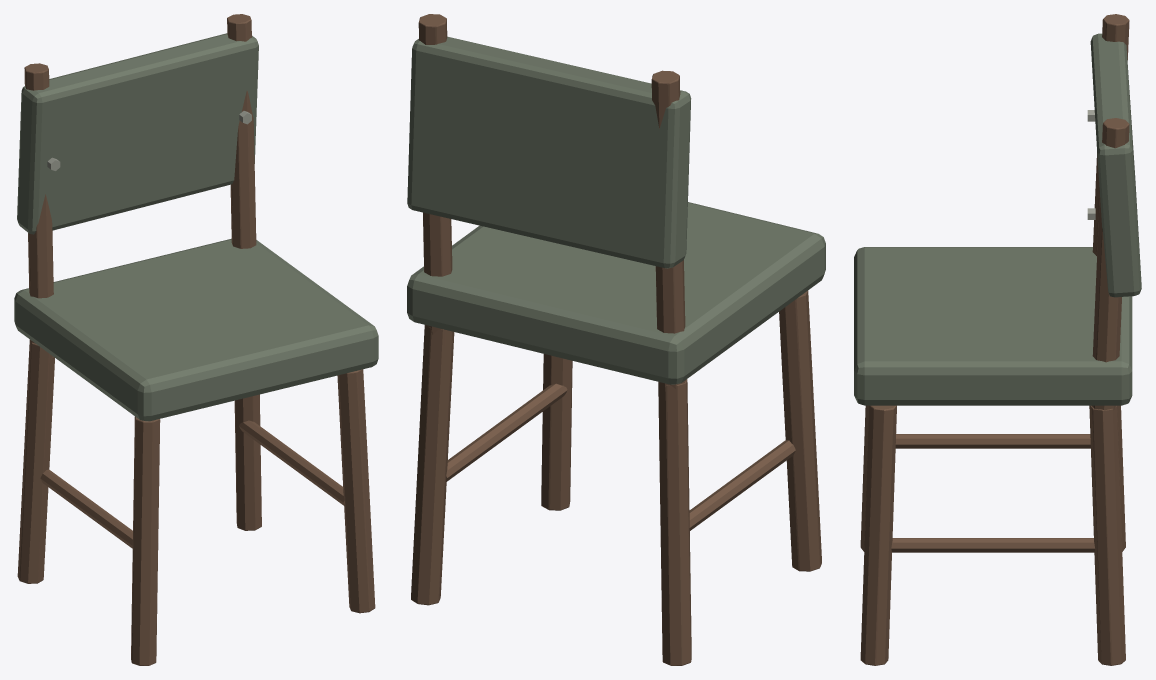
Rendered from chair_low.glb.
3 views of the same model, side by side, from view 1: azimuth 30°, elevation 25°; view 2: azimuth 150°, elevation 25°; view 3: azimuth 270°, elevation 25° (orthographic). The views are drawn at different scales.
Visible parts, largest first — view 1: chair.001; view 2: chair.001; view 3: chair.001.
Boxes of the visible parts, x1=… form: chair.001: x1=14, y1=14, x2=378, y2=665; chair.001: x1=407, y1=14, x2=825, y2=665; chair.001: x1=854, y1=14, x2=1141, y2=665.
Size of the model in its own units: 0.4534 by 0.9117 by 0.4446.
